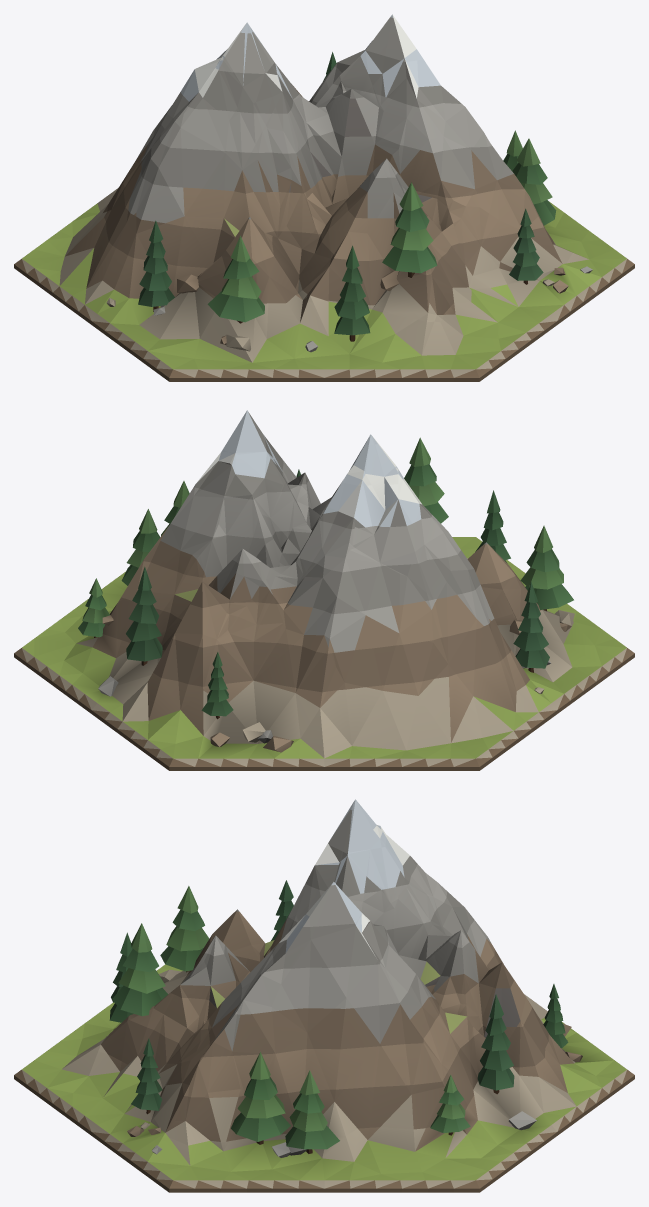
File: mountain_b.glb
The picture shows the model from 3 angles, top to bottom: view 1: azimuth 30°, elevation 25°; view 2: azimuth 150°, elevation 25°; view 3: azimuth 270°, elevation 25°; orthographic projection.
Parts seen in each view (by area): view 1: mountain_b; view 2: mountain_b; view 3: mountain_b.
Part boxes in pixels (<box>): mountain_b: <box>14,14,634,381</box>; mountain_b: <box>14,410,634,770</box>; mountain_b: <box>14,799,634,1192</box>.
Bounding box in the file's own units: 17.32 × 8.87 × 20.
